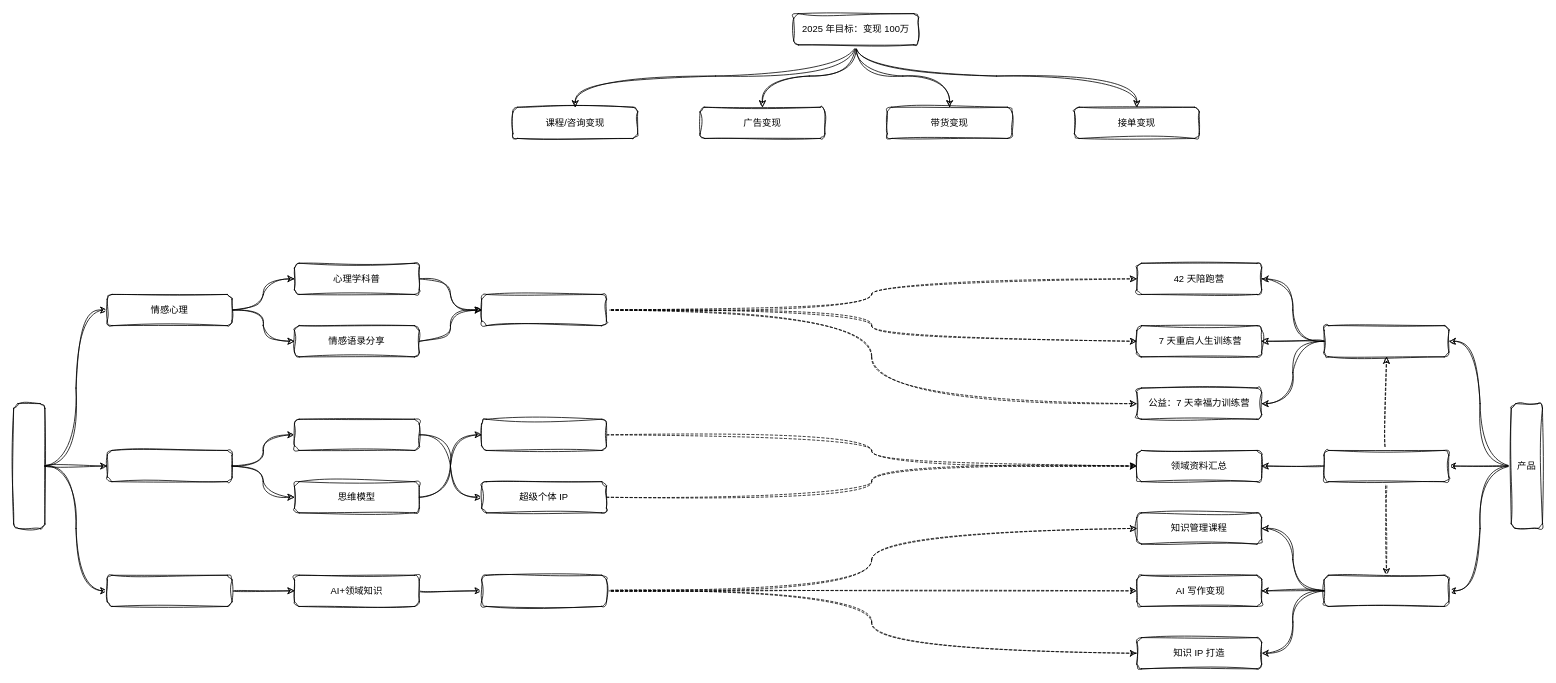
The diagram is 1556 pixels wide and 683 high, and some of its shapes have lost their labels. The centre of each missing label's shape, as x and y in pixels:
"AI 创业副业" goes at [169,590].
"AI 自媒体/写作变现" goes at [543,590].
"个人成长" goes at [169,466].
"咨询师/教练 IP" goes at [543,310].
"女性成长 IP" goes at [543,434].
"知识 IP" goes at [1386,590].
"行业" goes at [29,465].
"读书+领域" goes at [356,434].
"重启计划" goes at [1386,341].
"阅读计划" goes at [1386,466].
